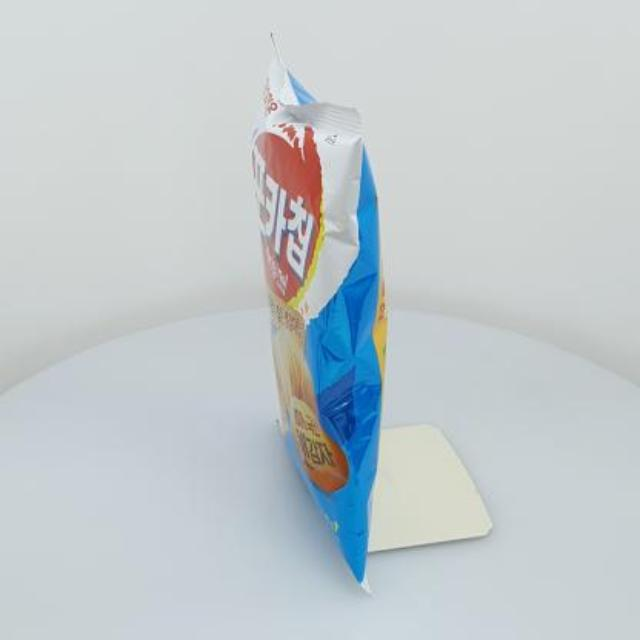snack_bag: (227, 15, 456, 615)
